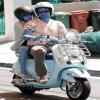motorcycles: (12, 40, 92, 98)
